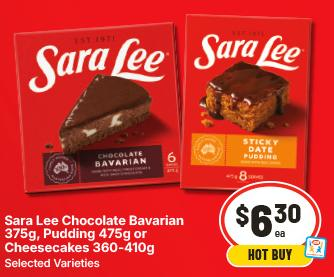description_block: (4, 211, 187, 258)
price_main: (226, 187, 318, 244)
product_image_block: (16, 16, 318, 197)
promo_text_block: (225, 244, 315, 271)
